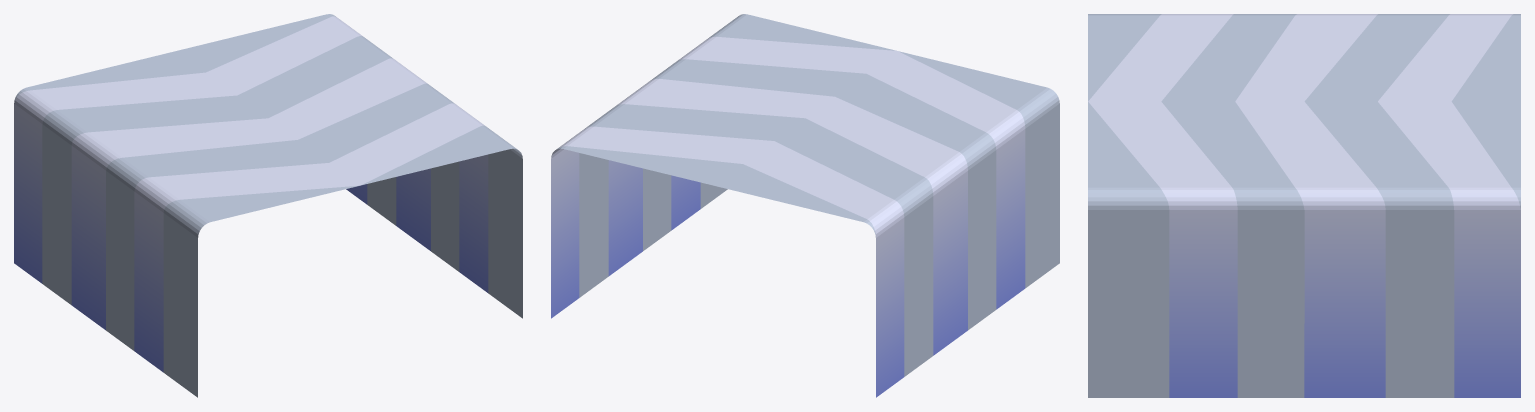
Rendered from cashierrun_platform (1).fbx.
The picture shows the model from 3 angles, left to right: view 1: azimuth 30°, elevation 25°; view 2: azimuth 150°, elevation 25°; view 3: azimuth 270°, elevation 25°; orthographic projection. The views are drawn at different scales.
Visible parts, largest first — view 1: cashierrun_platform; view 2: cashierrun_platform; view 3: cashierrun_platform.
Part boxes in pixels (bbox=[...]): cashierrun_platform: bbox=[14, 14, 522, 397]; cashierrun_platform: bbox=[551, 14, 1059, 397]; cashierrun_platform: bbox=[1088, 14, 1520, 397].
Bounding box in the file's own units: 11.9 × 6.05 × 11.68.
